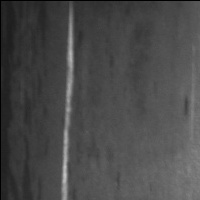inclusion: (1, 1, 36, 200)
scratches: (57, 2, 78, 200)
